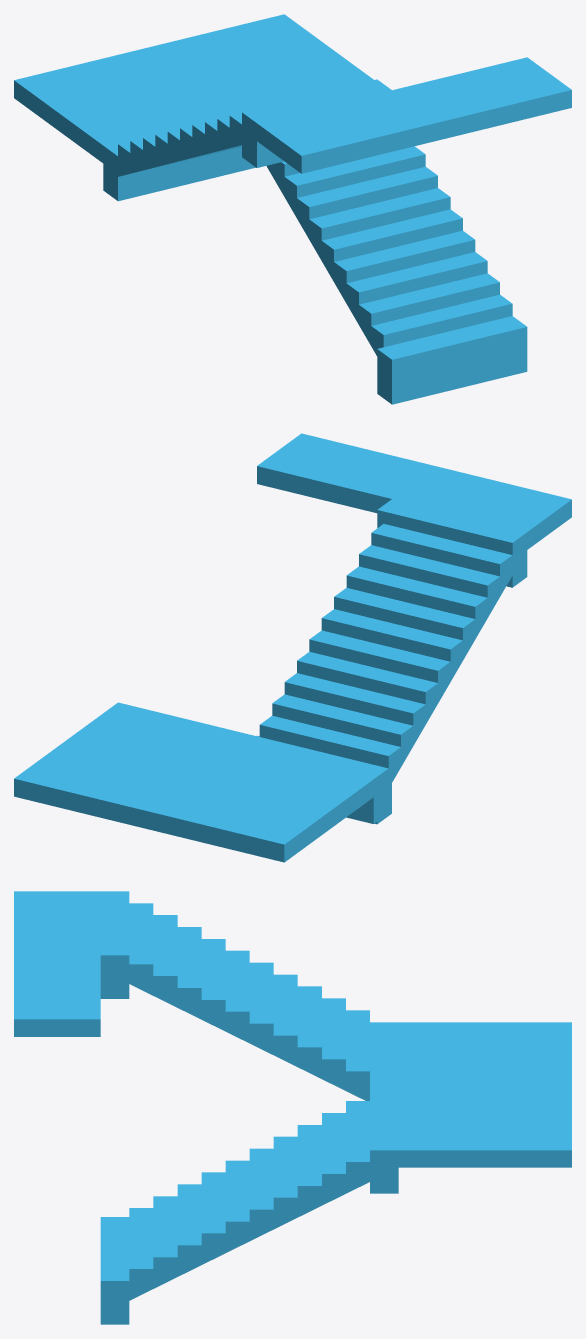
The model's file is LouTi.gltf.
3 views of the same model, one above another, from view 1: azimuth 30°, elevation 25°; view 2: azimuth 150°, elevation 25°; view 3: azimuth 270°, elevation 25° (orthographic). The views are drawn at different scales.
Bounding box in the file's own units: 1890 × 2100 × 3480.
